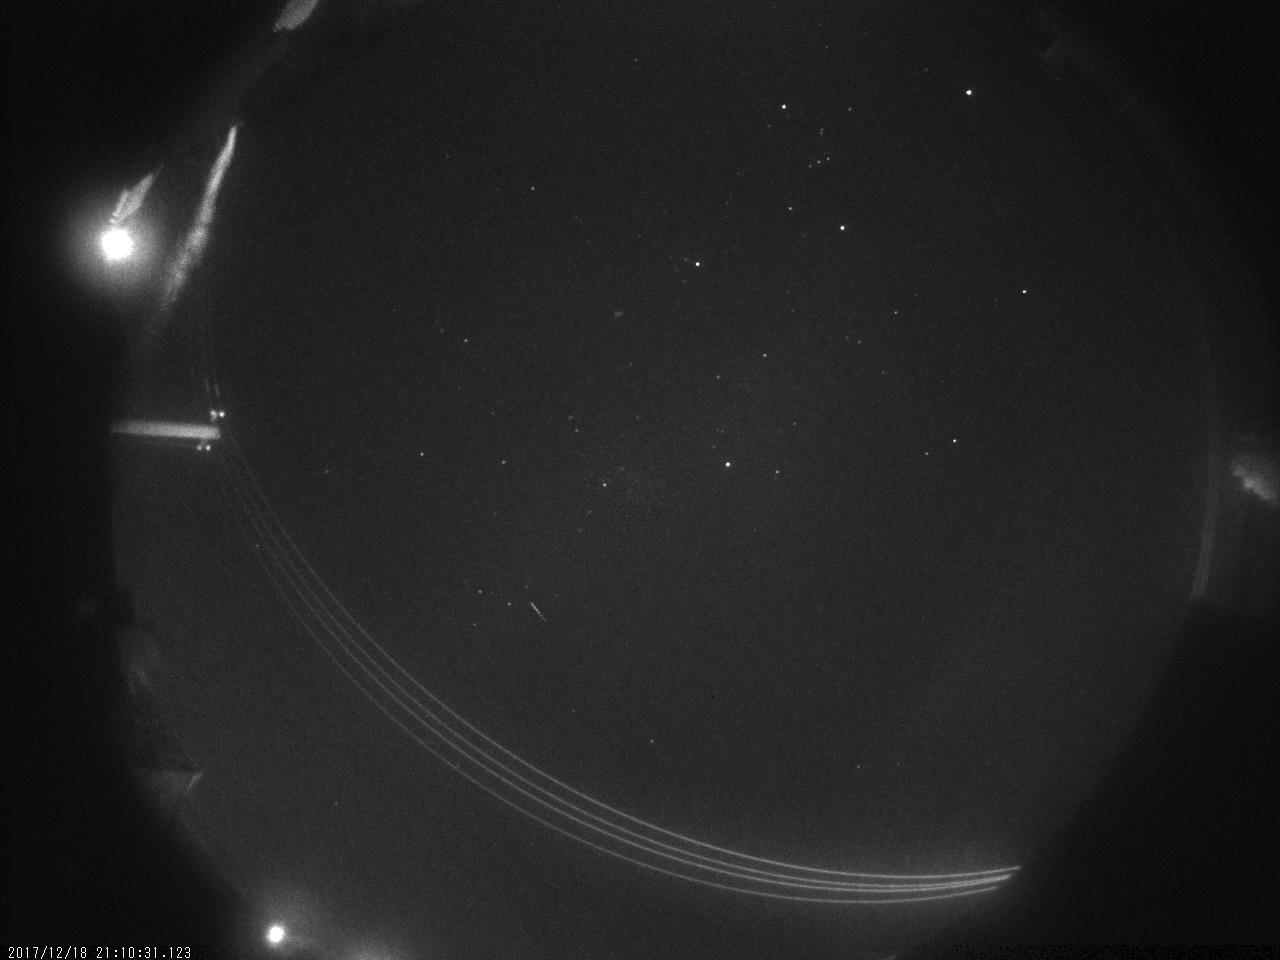meteor: (512, 582, 570, 654)
